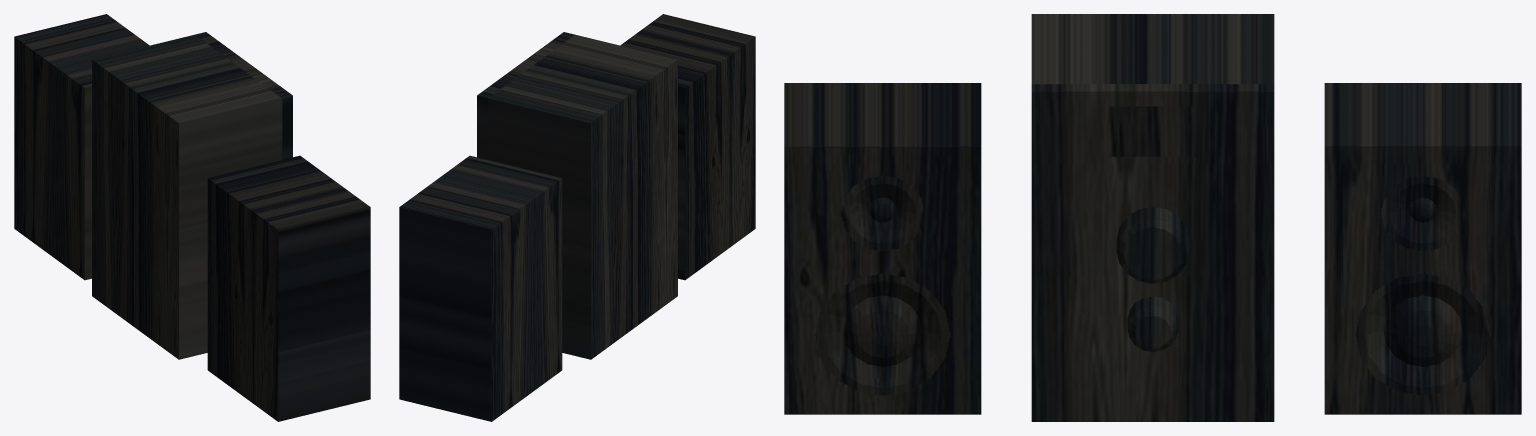
Rendered from speakers.obj.
3 renders of one model, left to right at view 1: azimuth 30°, elevation 25°; view 2: azimuth 150°, elevation 25°; view 3: azimuth 270°, elevation 25°, orthographic. The views are drawn at different scales.
Parts seen in each view (by area): view 1: ASSET_Joined_1281_hifi_stereo; view 2: ASSET_Joined_1281_hifi_stereo; view 3: ASSET_Joined_1281_hifi_stereo.
Part boxes in pixels (box(x1,y1,x2,y2)): ASSET_Joined_1281_hifi_stereo: box(14, 14, 370, 421); ASSET_Joined_1281_hifi_stereo: box(399, 14, 755, 421); ASSET_Joined_1281_hifi_stereo: box(784, 14, 1521, 421).
Bounding box in the file's own units: 23.53 × 39.58 × 80.06.
